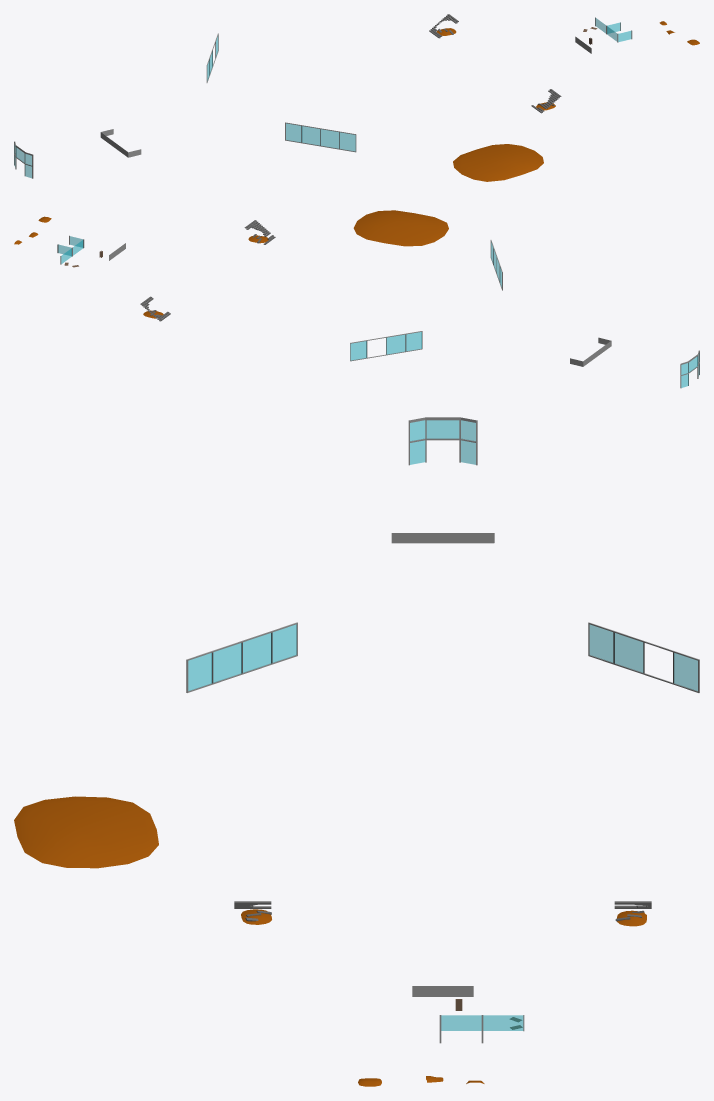
The model's file is Props 2.fbx.
The picture shows the model from 3 angles, top to bottom: view 1: azimuth 30°, elevation 25°; view 2: azimuth 150°, elevation 25°; view 3: azimuth 270°, elevation 25°; orthographic projection. The views are drawn at different scales.
Parts seen in each view (by area): view 1: Props; view 2: Props; view 3: Props.
Part boxes in pixels (x1=…): Props: x1=14, y1=14, x2=699, y2=181; Props: x1=14, y1=210, x2=699, y2=388; Props: x1=14, y1=417, x2=699, y2=1086.
Bounding box in the file's own units: 26.76 × 1.55 × 12.99.
